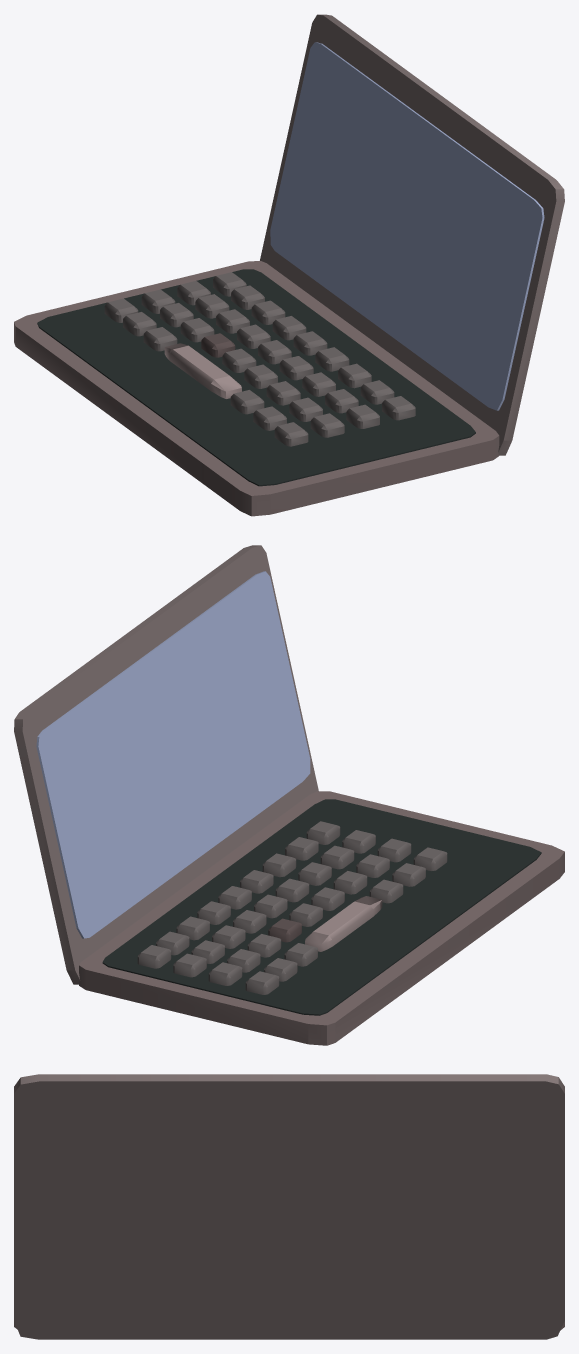
File: laptop.glb
The picture shows the model from 3 angles, top to bottom: view 1: azimuth 30°, elevation 25°; view 2: azimuth 150°, elevation 25°; view 3: azimuth 270°, elevation 25°; orthographic projection. The views are drawn at different scales.
Parts seen in each view (by area): view 1: Object_7, Object_2, Object_3, Object_8, Object_5, Object_6; view 2: Object_7, Object_2, Object_3, Object_8, Object_5, Object_6; view 3: Object_5.
Part boxes in pixels (x1=…): Object_7: x1=270, y1=42, x2=544, y2=410; Object_2: x1=37, y1=269, x2=475, y2=486; Object_3: x1=14, y1=261, x2=499, y2=516; Object_8: x1=104, y1=272, x2=415, y2=446; Object_5: x1=260, y1=14, x2=564, y2=455; Object_6: x1=164, y1=343, x2=241, y2=398; Object_7: x1=36, y1=571, x2=310, y2=938; Object_2: x1=102, y1=799, x2=541, y2=1015; Object_3: x1=79, y1=791, x2=564, y2=1045; Object_8: x1=137, y1=821, x2=447, y2=994; Object_5: x1=14, y1=545, x2=318, y2=984; Object_6: x1=305, y1=896, x2=382, y2=951; Object_5: x1=14, y1=1074, x2=564, y2=1339.
Size of the model in its own units: 2.08 by 1.64 by 2.78.
